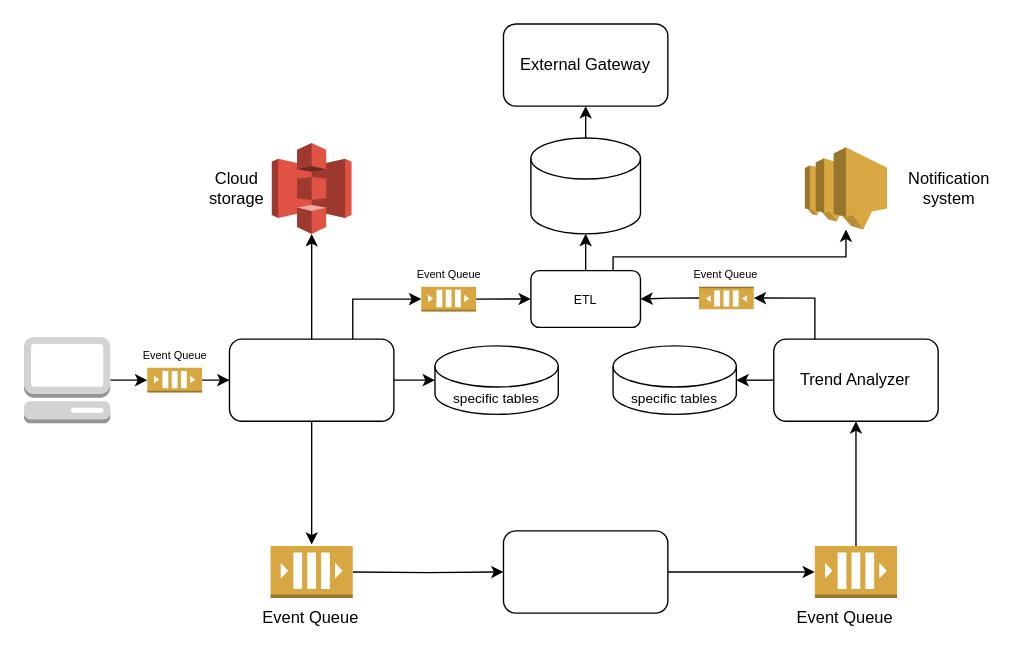
The diagram is 1014 pixels wide and 663 high, and some of its shapes have lost their labels. Each missing label, with the centre of its shape:
Data ingestor: point (311, 379)
denormalized view: point (585, 185)
File parser: point (585, 571)
